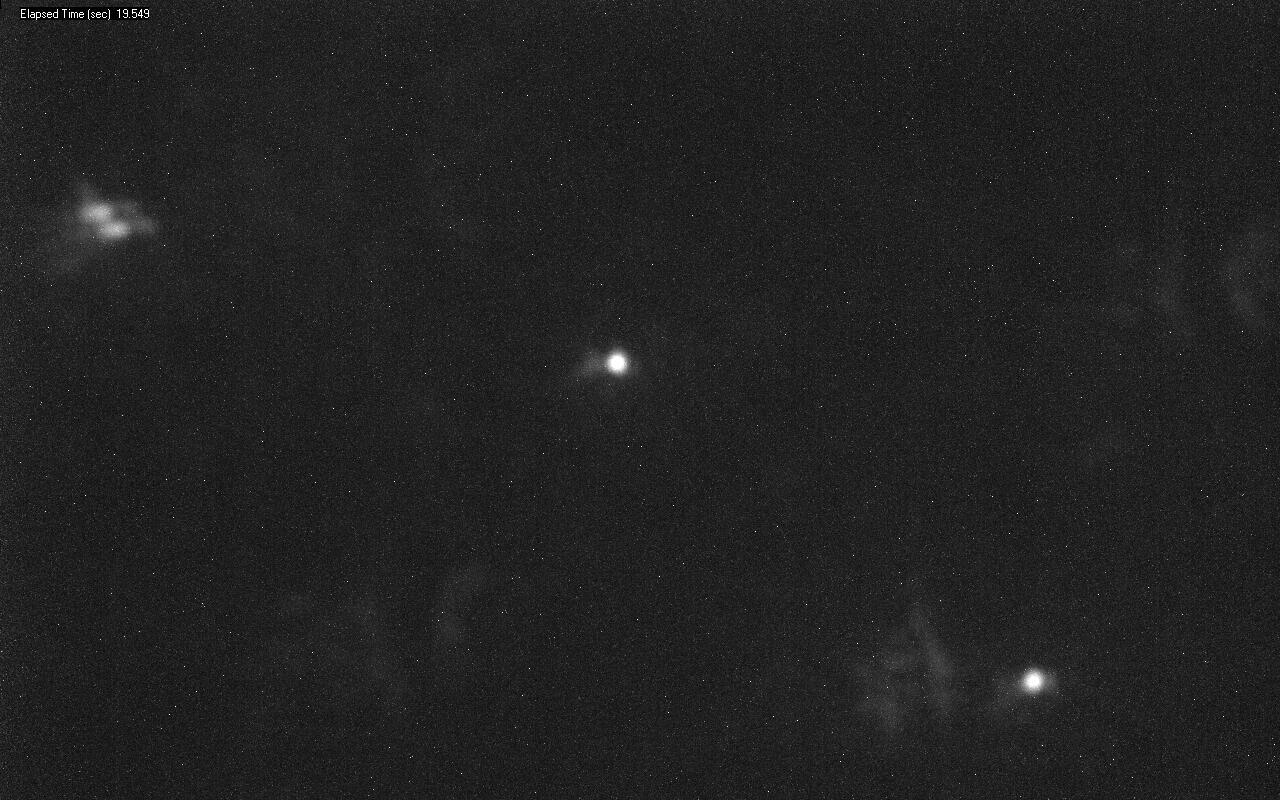Bead: (1023, 669, 1043, 693), (608, 352, 626, 373)
